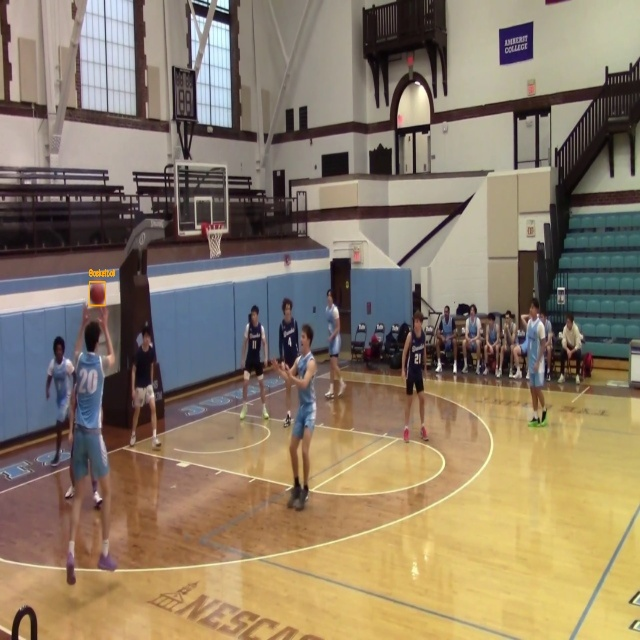Basketball: (89, 282, 105, 305)
